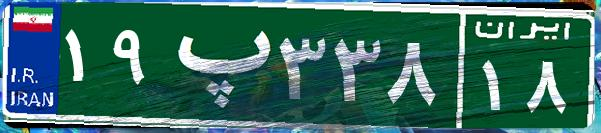1: (57, 26, 110, 107), (475, 38, 525, 113)
3: (273, 28, 330, 110), (330, 28, 385, 110)
8: (385, 28, 445, 110), (525, 38, 570, 115)
9: (110, 28, 158, 105)
پ: (158, 15, 273, 115)
